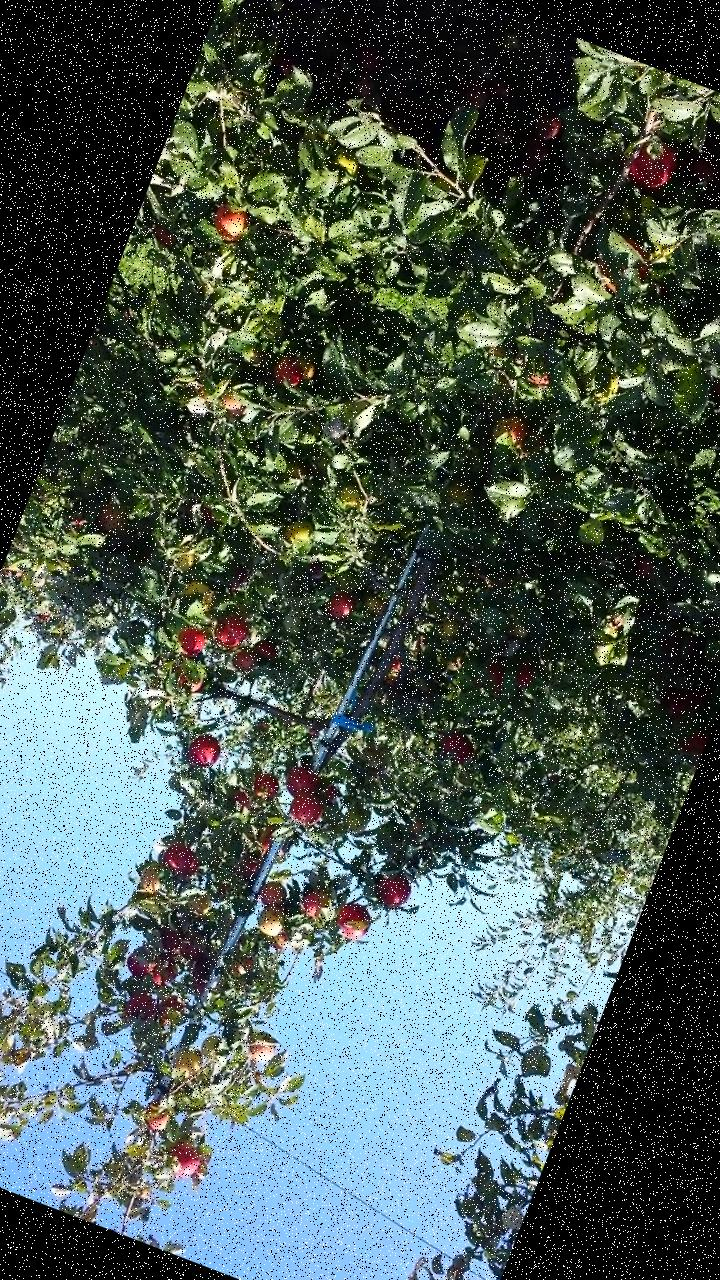Apple: (587, 229, 658, 302), (622, 131, 680, 196), (204, 198, 252, 246), (163, 1136, 207, 1184), (432, 726, 480, 770), (329, 898, 375, 943), (437, 476, 481, 522), (157, 840, 202, 884), (490, 413, 534, 457), (280, 763, 324, 805), (662, 684, 704, 728), (369, 870, 413, 911), (208, 611, 252, 652), (184, 728, 224, 772), (285, 788, 326, 830), (268, 350, 310, 391), (117, 990, 158, 1030), (253, 821, 292, 860), (298, 886, 336, 924), (167, 1044, 205, 1081), (170, 624, 209, 660), (254, 904, 291, 941), (138, 1102, 176, 1138), (166, 662, 206, 696), (257, 876, 294, 912), (94, 504, 131, 540), (179, 576, 218, 610), (242, 1032, 278, 1068), (156, 994, 192, 1030), (120, 944, 156, 980), (323, 587, 358, 624), (224, 646, 261, 679), (185, 958, 214, 999), (248, 770, 282, 804), (145, 962, 178, 996), (522, 361, 558, 392), (678, 726, 706, 765), (134, 864, 167, 896), (341, 803, 373, 836), (214, 388, 249, 418), (225, 560, 254, 596), (284, 518, 316, 550), (247, 634, 281, 664), (148, 222, 184, 250), (223, 784, 260, 811), (436, 614, 468, 645), (185, 890, 216, 921), (334, 484, 365, 514), (174, 938, 207, 966), (480, 662, 509, 692), (381, 654, 405, 690), (232, 851, 260, 880), (290, 356, 319, 384), (360, 594, 391, 620), (228, 954, 256, 982), (194, 502, 220, 528), (314, 782, 341, 807), (633, 555, 657, 583), (264, 927, 289, 952), (513, 666, 538, 690), (158, 931, 182, 954), (174, 552, 194, 576), (711, 378, 719, 405), (341, 818, 349, 828)
